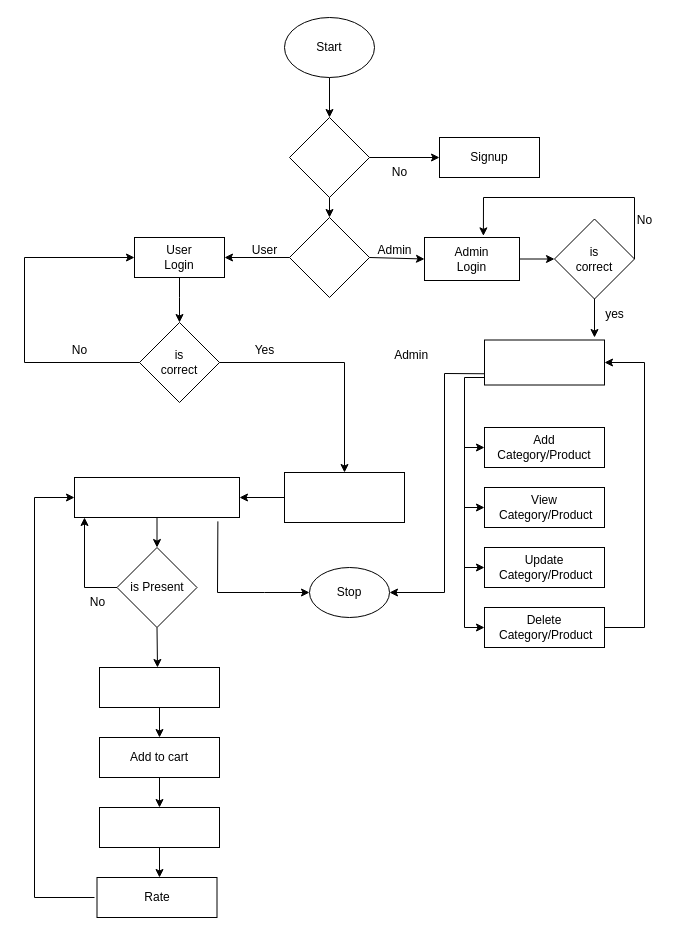
This 682x935 diagram has some shape labels left out. The shapes that lost their labels are listed below. From the top down, each one's box as (x1, y1, x2, y2) in pixels, then its label:
(288, 116, 370, 198): Has an Account
(288, 216, 370, 298): Admin/User
(484, 339, 604, 385): Admin Dashboard
(74, 476, 240, 518): Search Products
(284, 472, 404, 522): User Home
(98, 666, 220, 708): View Product Details
(98, 806, 220, 848): Place Order
